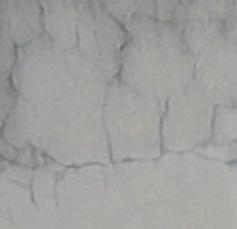fissura: (0, 0, 237, 212)
